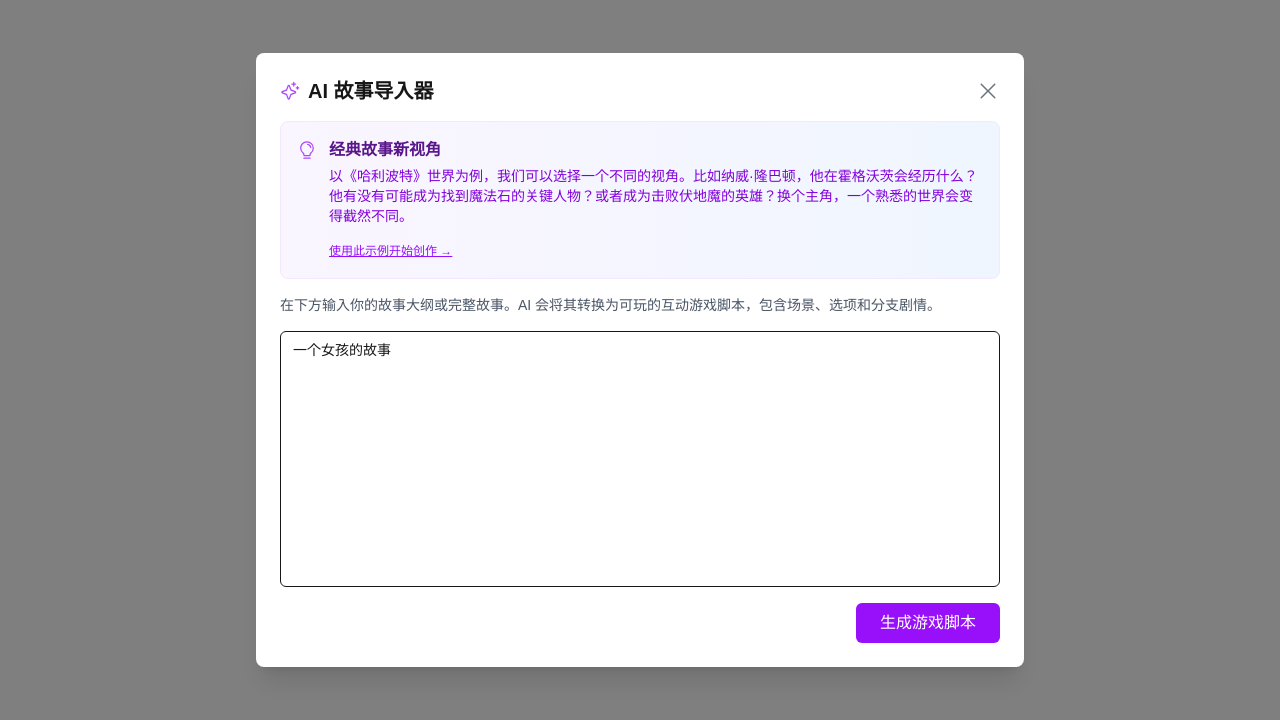
Test case: StoryImporter › 信息不够清晰时的多轮追问 › 仍不够清晰时继续追问第二轮
Click the button "生成游戏脚本".
click(928, 623)  # box x1=856 y1=603 x2=1000 y2=643
(page scrolled)
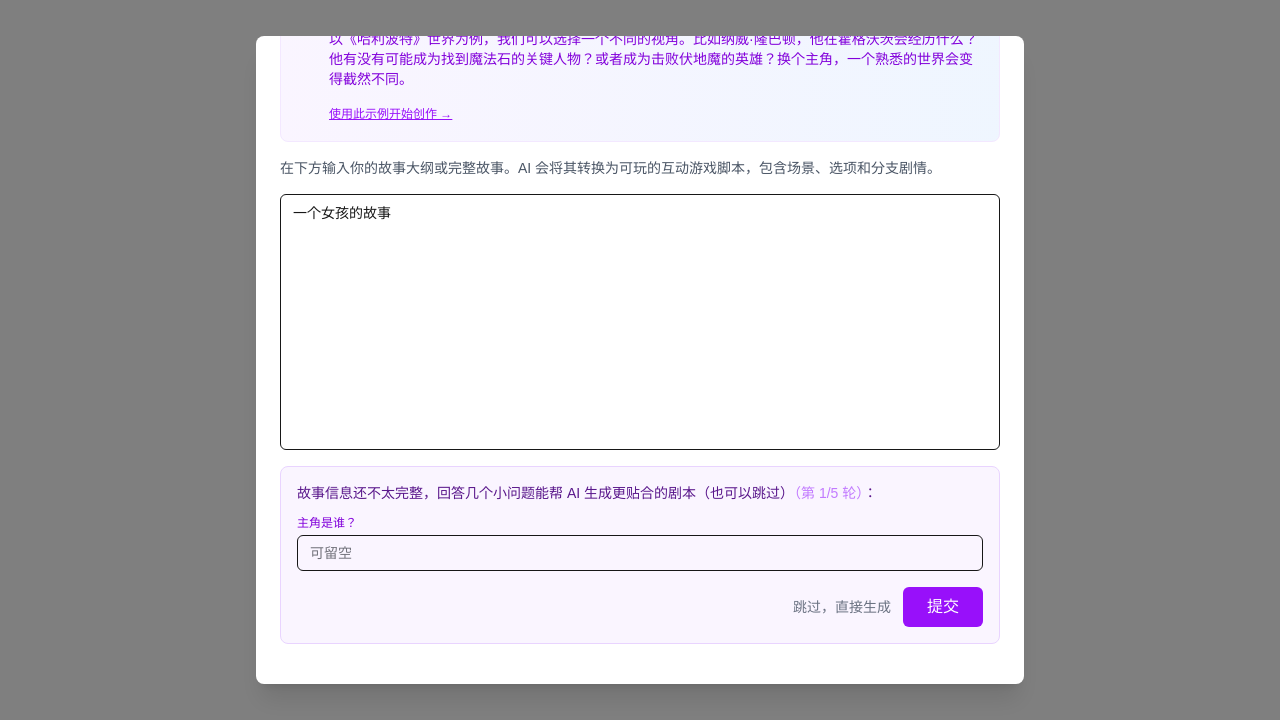
expect the text "主角是谁？" is shown: met, box x1=297 y1=516 x2=357 y2=530
Click the button "提交".
click(943, 607)  # box x1=903 y1=587 x2=983 y2=627
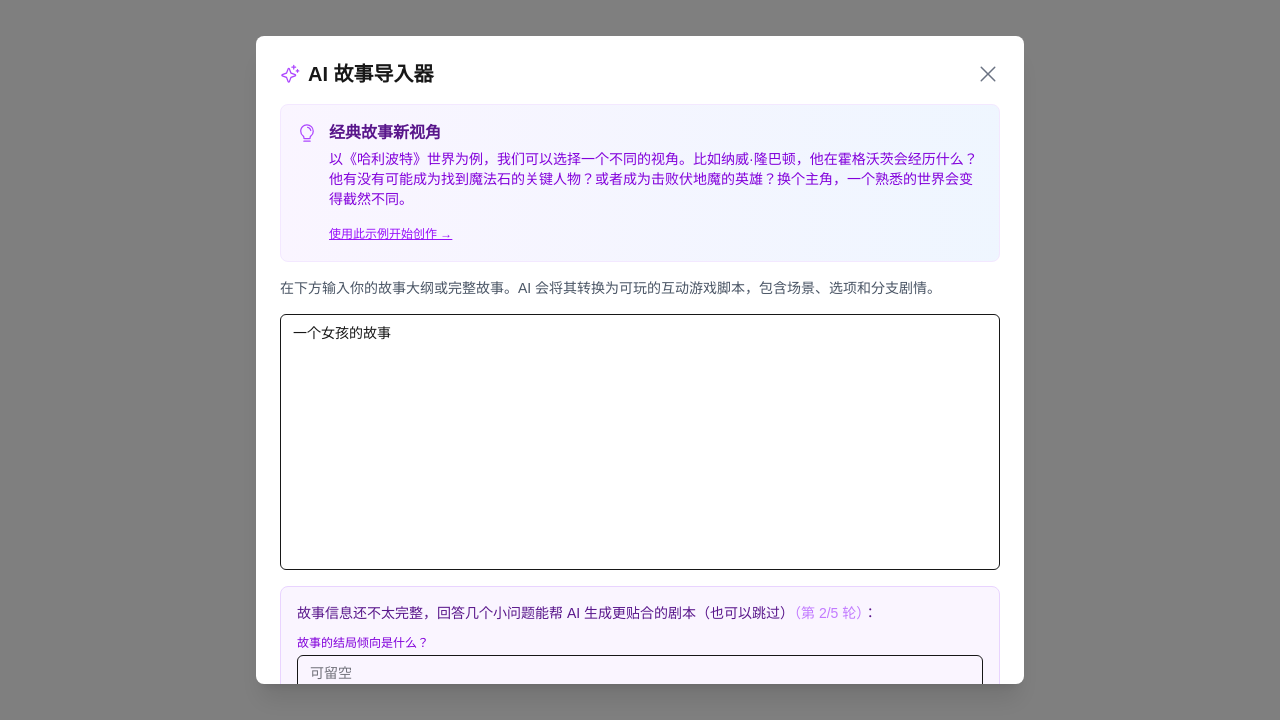
expect the text "故事的结局倾向是什么？" is shown: met, box x1=297 y1=636 x2=429 y2=650
expect the text "（第 2/5 轮）" is shown: met, box x1=794 y1=605 x2=863 y2=621
